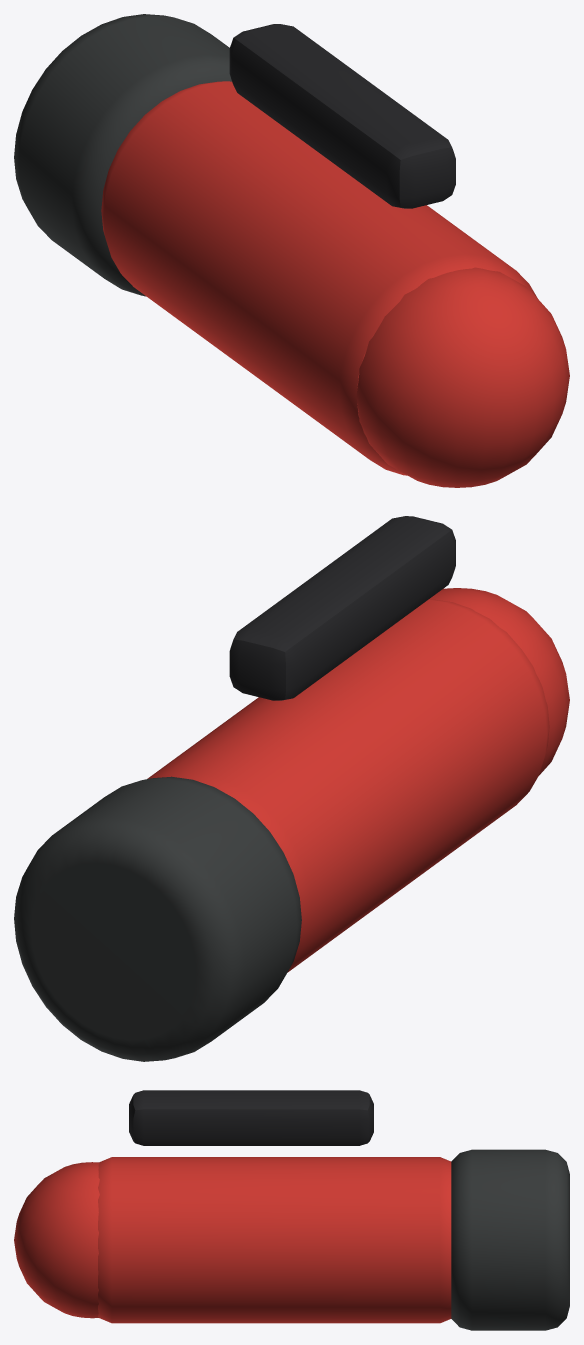
The model's file is industrial.workshop.tool_polisher.glb.
The picture shows the model from 3 angles, top to bottom: view 1: azimuth 30°, elevation 25°; view 2: azimuth 150°, elevation 25°; view 3: azimuth 270°, elevation 25°; orthographic projection. The views are drawn at different scales.
Parts seen in each view (by area): view 1: main__paint_c33, main__paint_333, main__paint_222; view 2: main__paint_c33, main__paint_333, main__paint_222; view 3: main__paint_c33, main__paint_333, main__paint_222.
Part boxes in pixels (x1,y1,x2,y2): main__paint_c33: (101, 81, 569, 487); main__paint_333: (14, 14, 231, 296); main__paint_222: (229, 24, 455, 208); main__paint_c33: (147, 588, 569, 972); main__paint_333: (14, 776, 301, 1061); main__paint_222: (229, 516, 455, 700); main__paint_c33: (14, 1157, 451, 1323); main__paint_333: (451, 1149, 569, 1330); main__paint_222: (129, 1090, 373, 1145).
Size of the model in its own units: 0.074 by 0.102 by 0.227.
